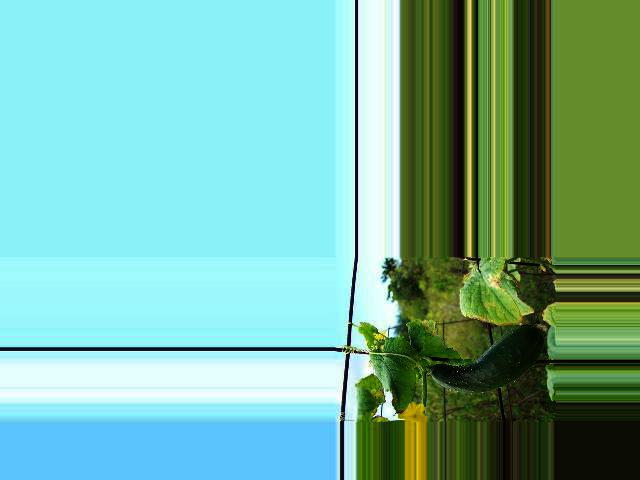cucumber: (429, 323, 544, 393)
